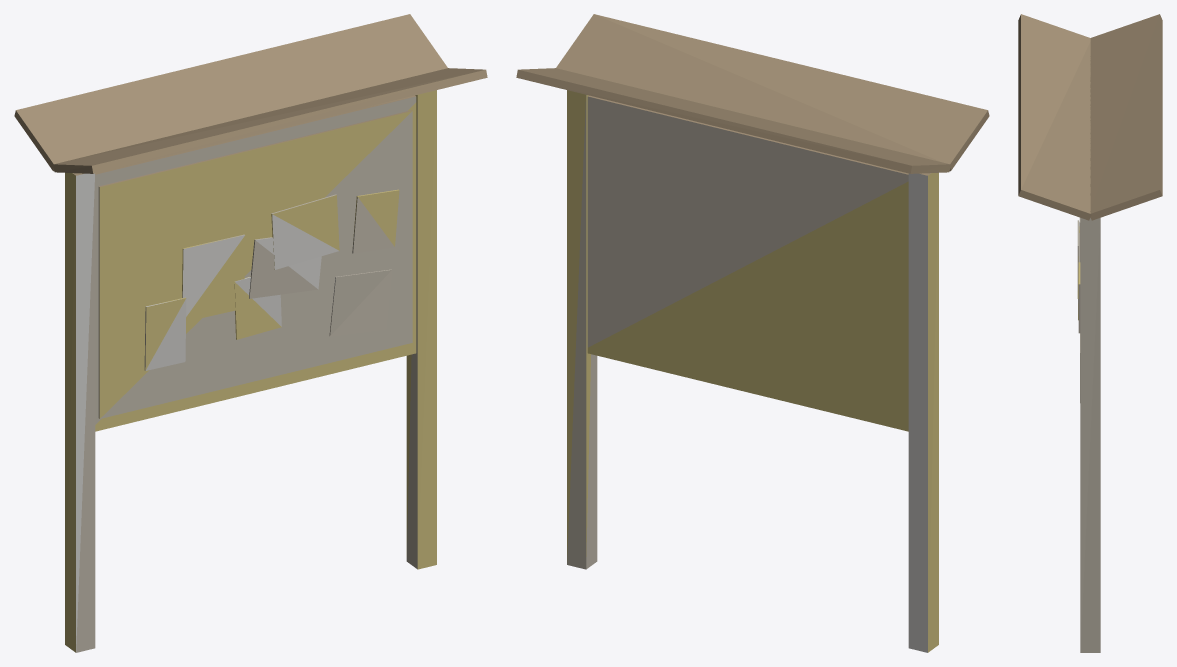
The model's file is notice-board-00.glb.
The picture shows the model from 3 angles, left to right: view 1: azimuth 30°, elevation 25°; view 2: azimuth 150°, elevation 25°; view 3: azimuth 270°, elevation 25°; orthographic projection. The views are drawn at different scales.
Parts seen in each view (by area): view 1: notice_board_00; view 2: notice_board_00; view 3: notice_board_00.
Part boxes in pixels (x1,y1,x2,y2): notice_board_00: (14, 14, 487, 652); notice_board_00: (516, 14, 989, 652); notice_board_00: (1018, 14, 1162, 652).
Size of the model in its own units: 1.65 by 2.06 by 0.5714.
